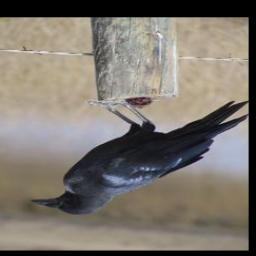Crow: (26, 97, 248, 218)
